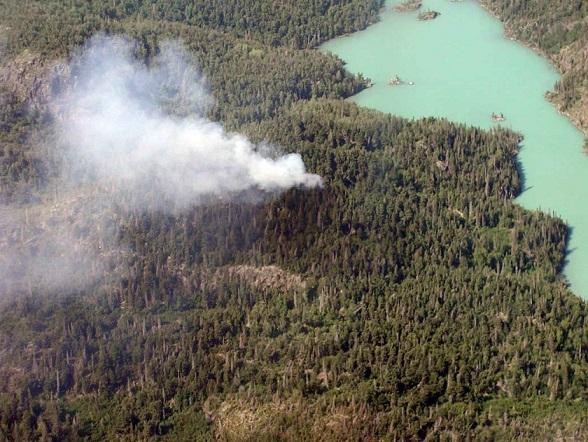smoke: (91, 123, 217, 187)
